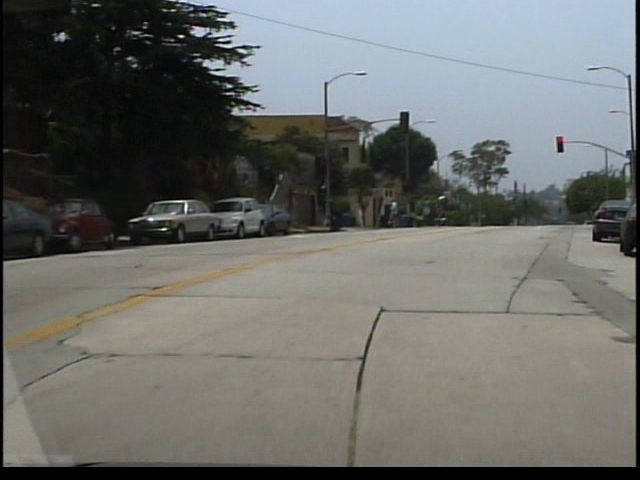person: (391, 199, 403, 231), (361, 205, 369, 230)
